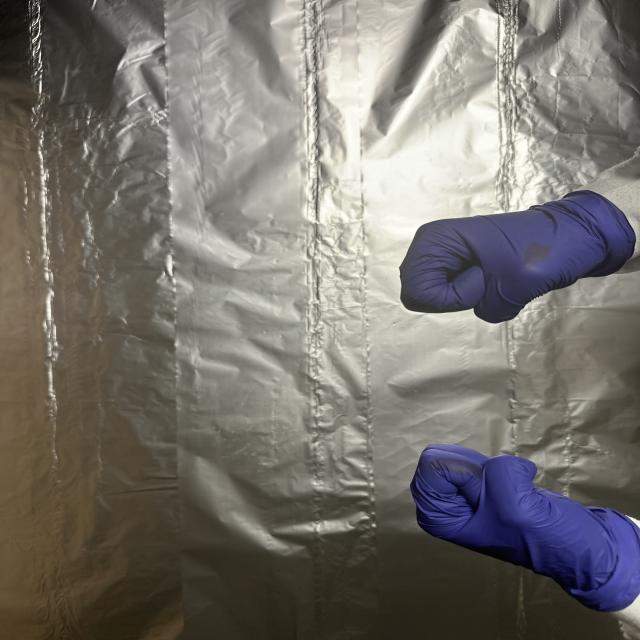gloves_contaminated: (411, 444, 640, 612), (400, 190, 635, 323)
